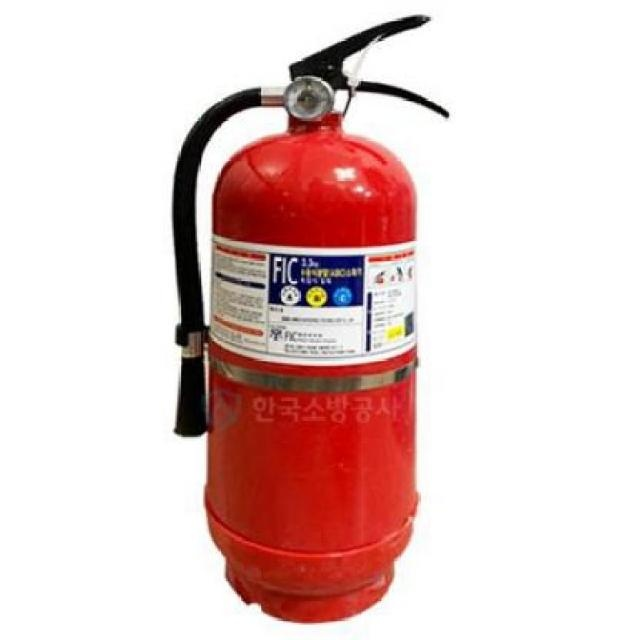fire extinguisher: (171, 13, 451, 624)
